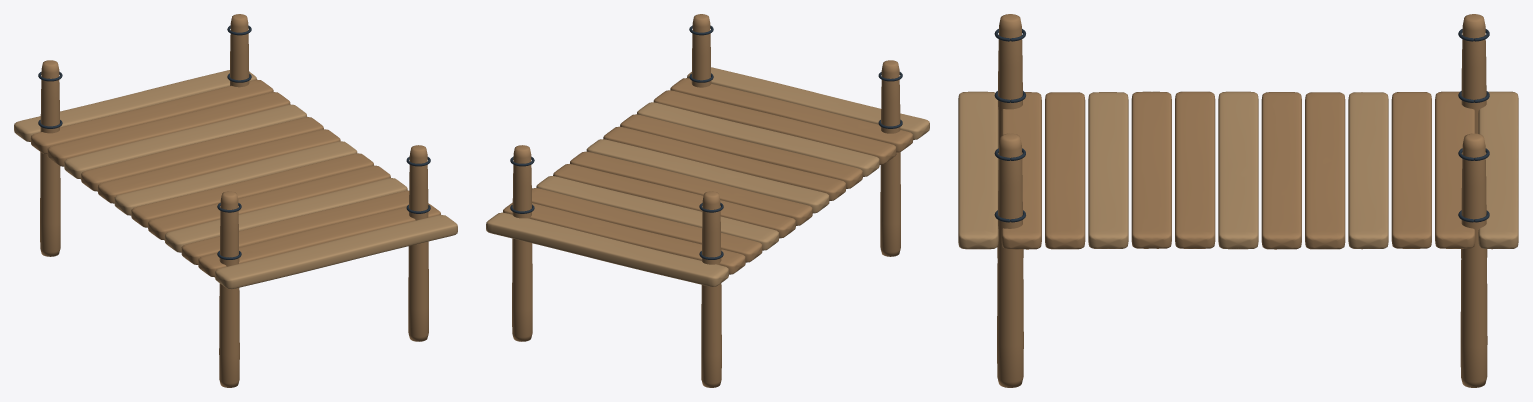
The model's file is Dock_3m_LOD1.glb.
3 views of the same model, side by side, from view 1: azimuth 30°, elevation 25°; view 2: azimuth 150°, elevation 25°; view 3: azimuth 270°, elevation 25° (orthographic). The views are drawn at different scales.
Parts seen in each view (by area): view 1: Dock_3m_GameMesh; view 2: Dock_3m_GameMesh; view 3: Dock_3m_GameMesh.
Boxes of the visible parts, box(x1,y1,x2,y2) form: Dock_3m_GameMesh: box(14, 14, 457, 387); Dock_3m_GameMesh: box(486, 14, 929, 387); Dock_3m_GameMesh: box(958, 14, 1518, 387).
Bounding box in the file's own units: 1.84 × 1.45 × 2.97.
